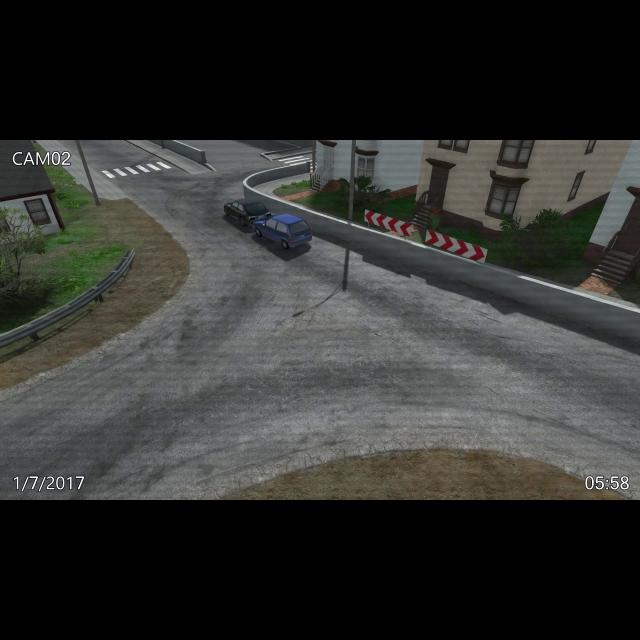accident: (218, 196, 318, 251)
